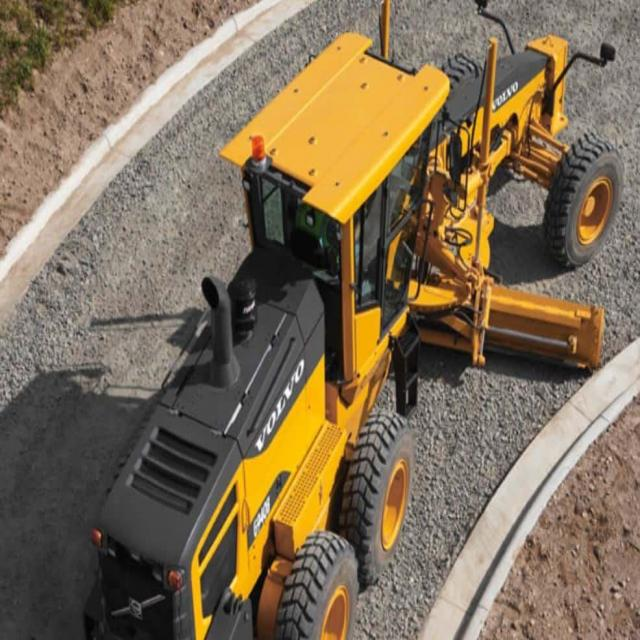Grader: (49, 4, 633, 639)
